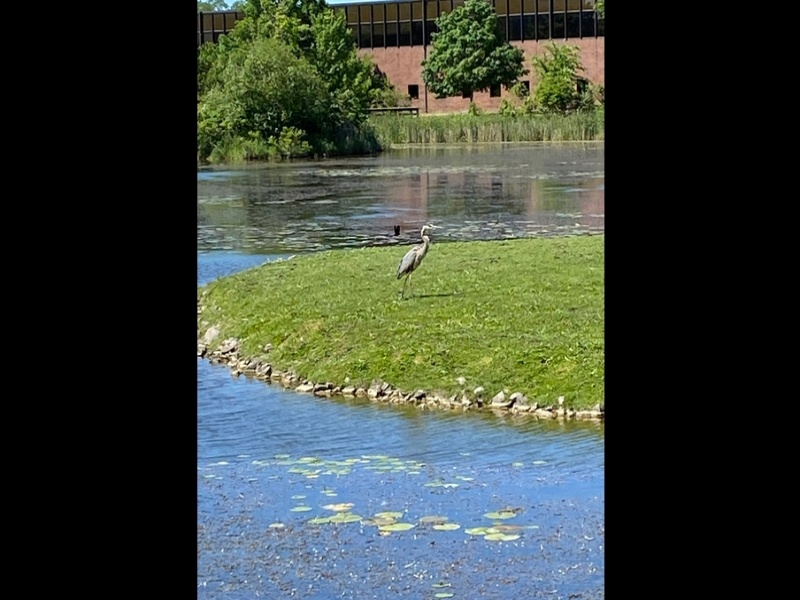heron: (395, 220, 442, 287)
